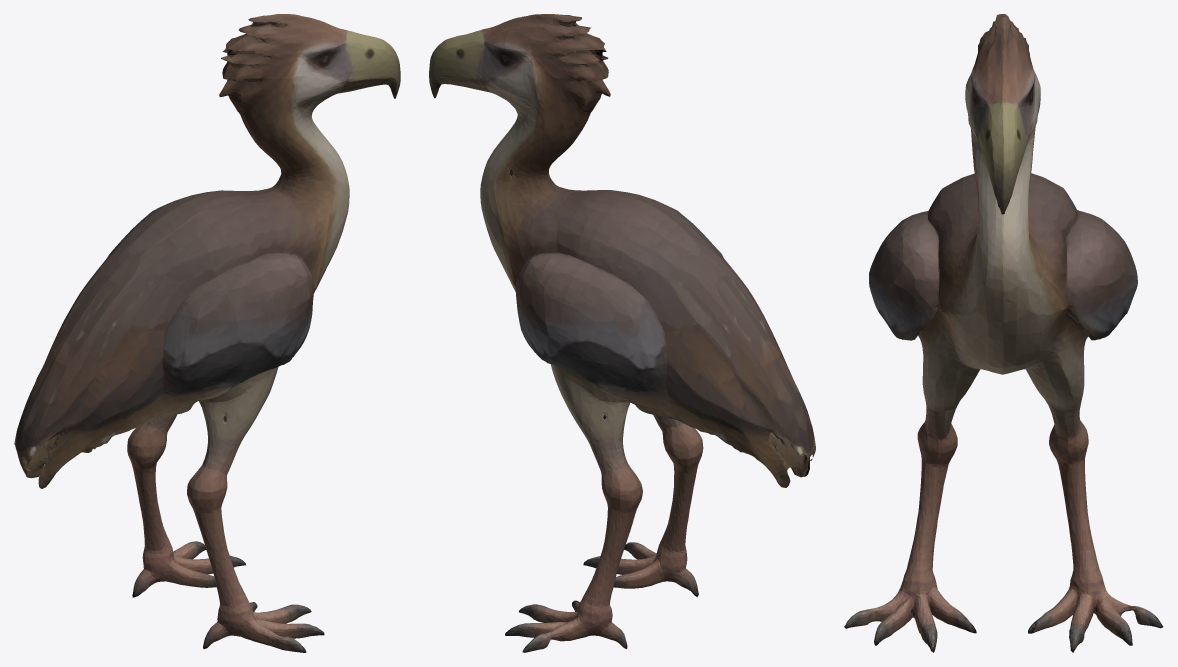
3 views of the same model, side by side, from view 1: azimuth 30°, elevation 25°; view 2: azimuth 150°, elevation 25°; view 3: azimuth 270°, elevation 25° (orthographic). The views are drawn at different scales.
Visible parts, largest first — view 1: world; view 2: world; view 3: world.
Boxes of the visible parts, left/top/right/bottom form: world: left=14, top=14, right=400, bottom=652; world: left=429, top=14, right=815, bottom=652; world: left=844, top=14, right=1163, bottom=652.
Size of the model in its own units: 0.619 by 0.9074 by 0.4149.
1 material, 1 textured.
